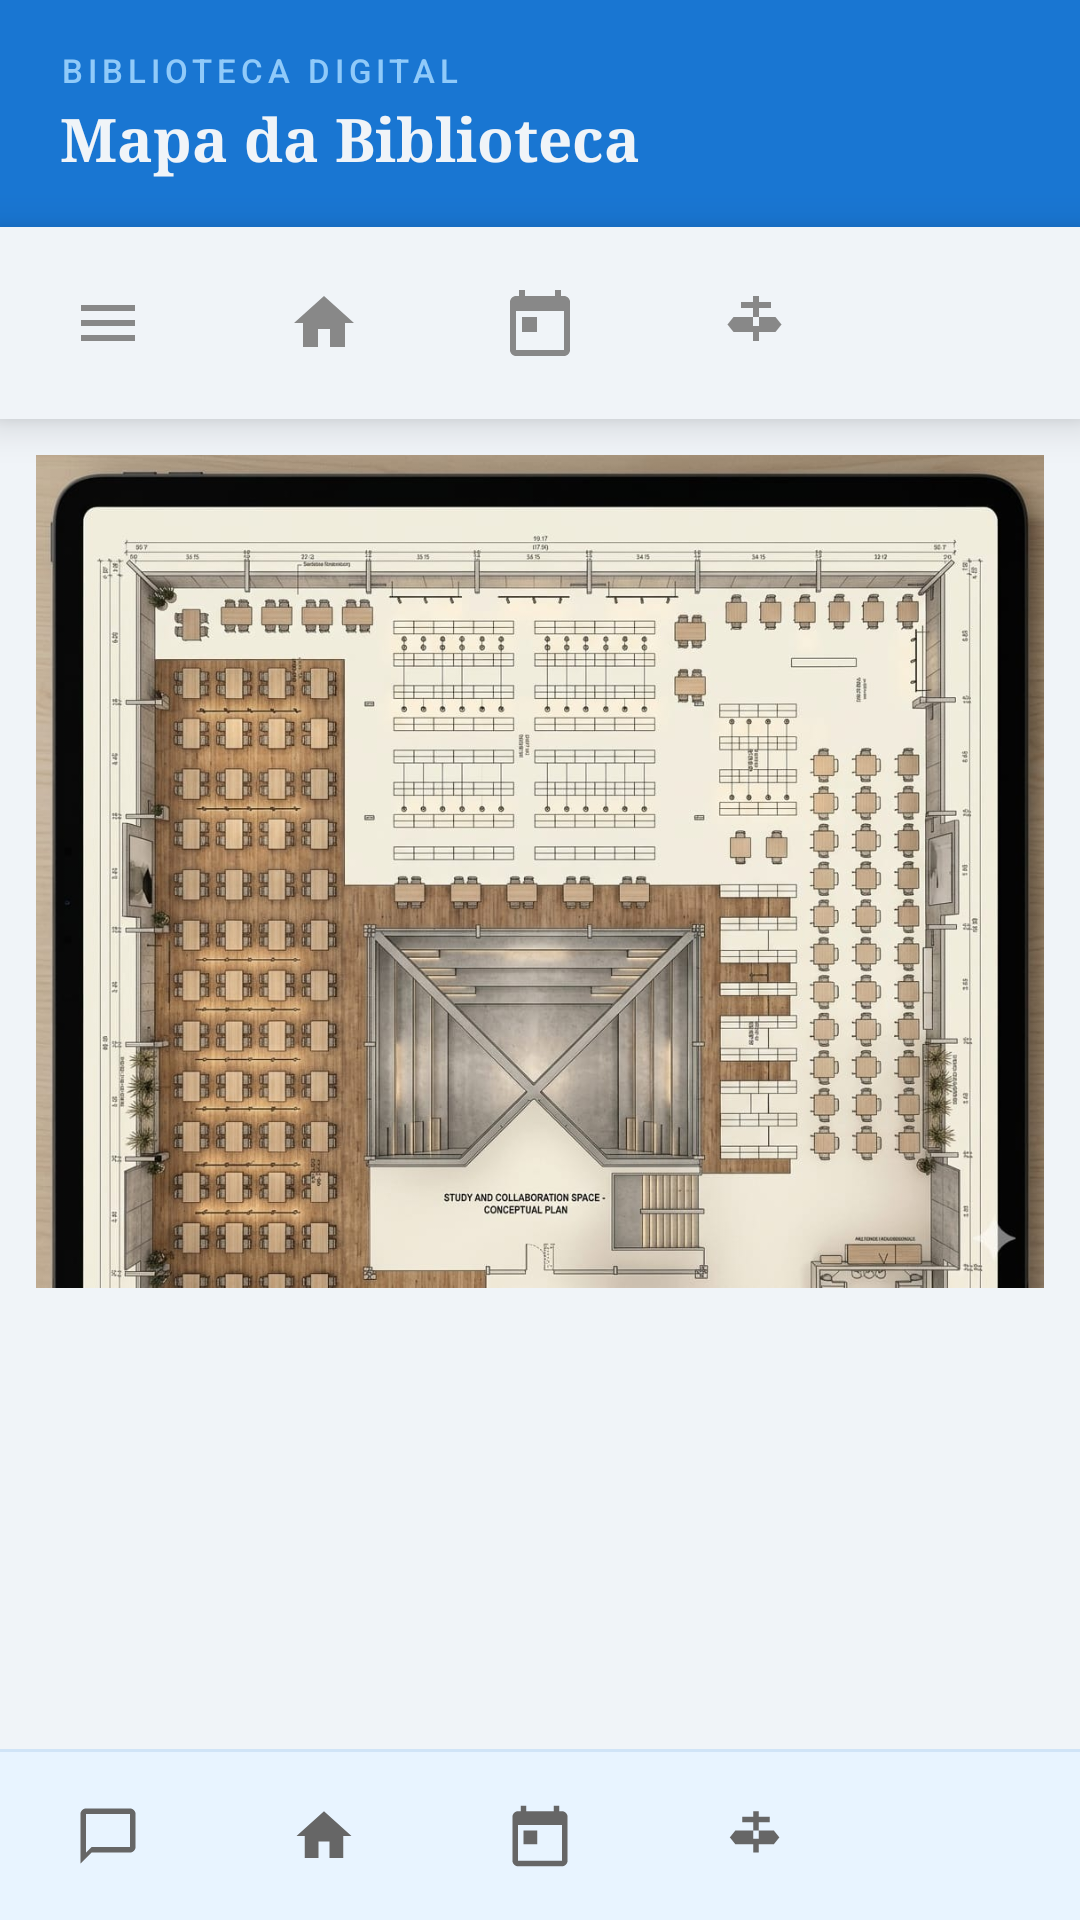

Locate icon controls on the screen. Image size 1080×1920, boxes as (x1, y1, x2, y2).
Calendário: (510, 290, 570, 356)
Reservas: (512, 1805, 568, 1867)
